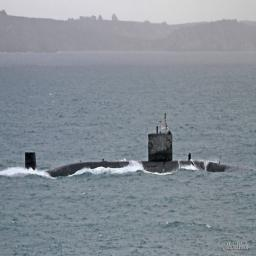submarine: (21, 131, 235, 175)
